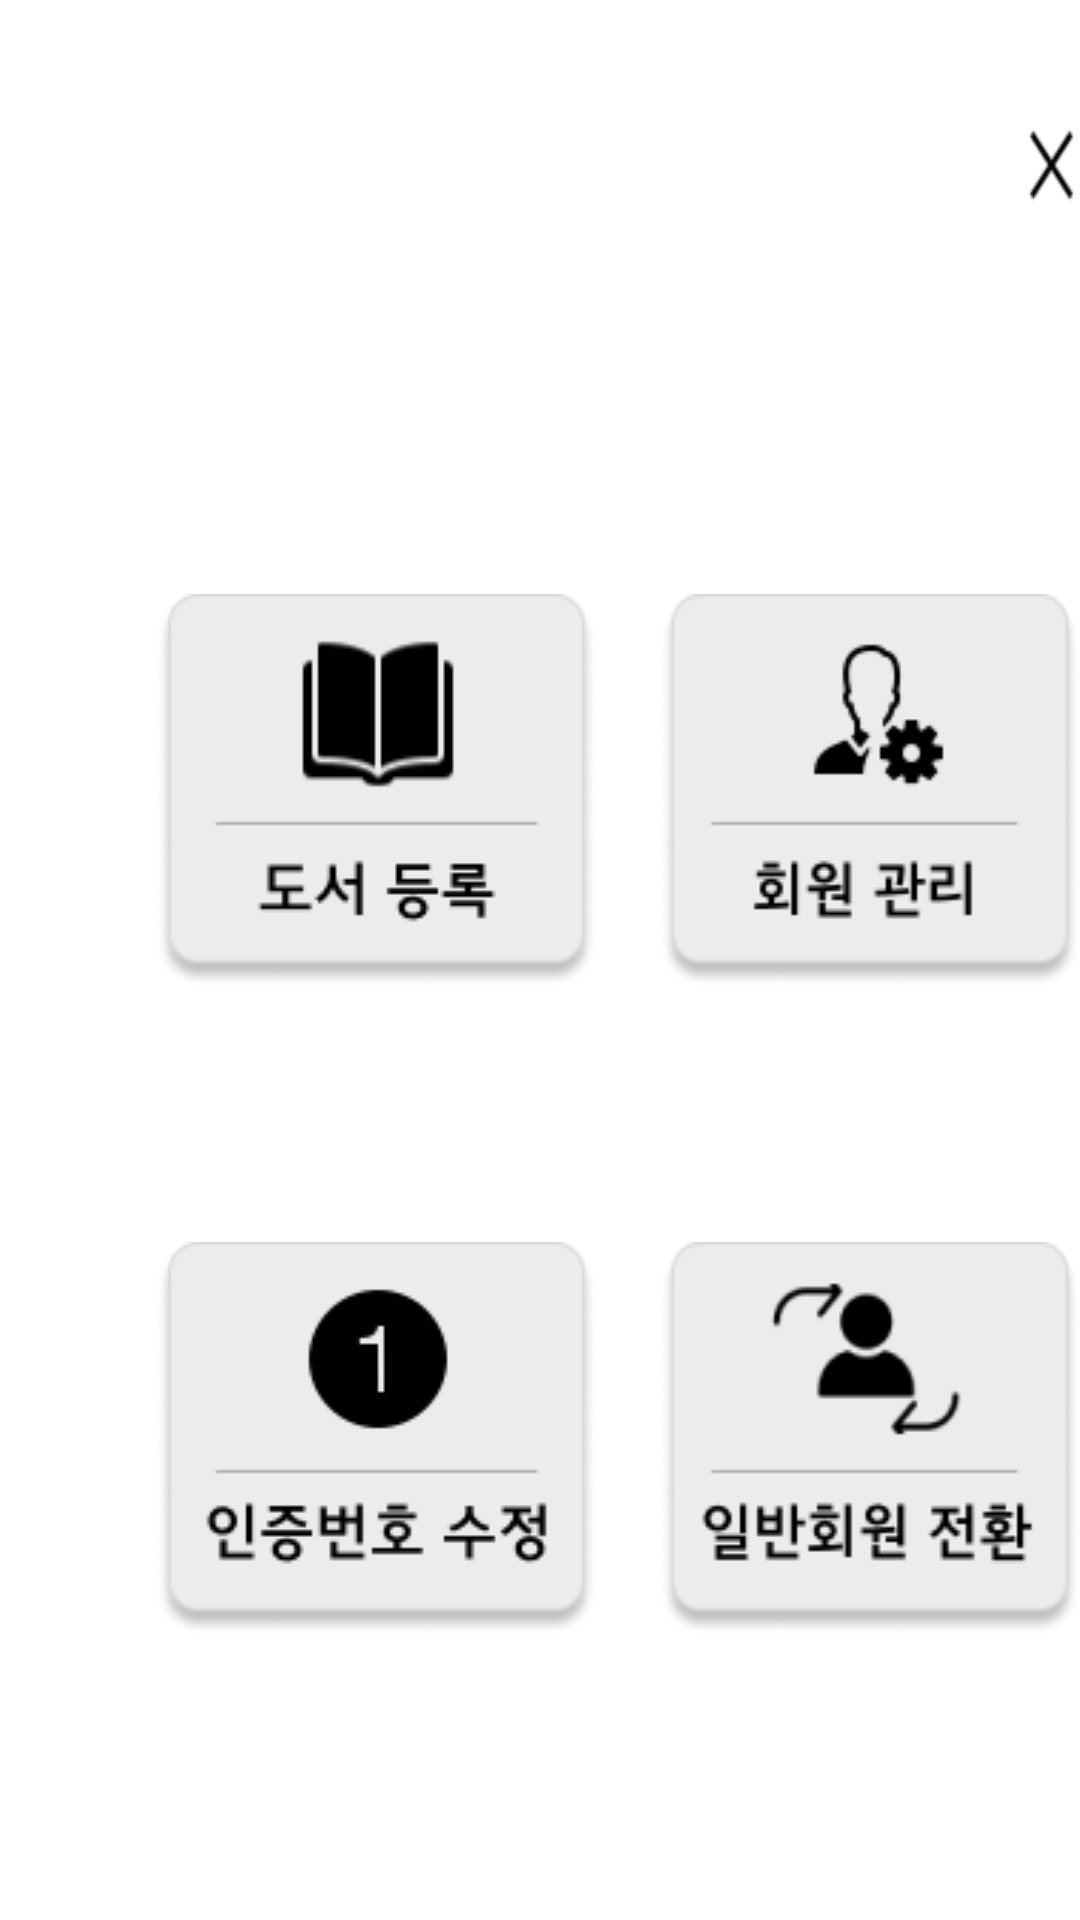

Where to tap for icons on this 1080px x 1920px app screen, as point (x, y):
close: point (1051, 165)
